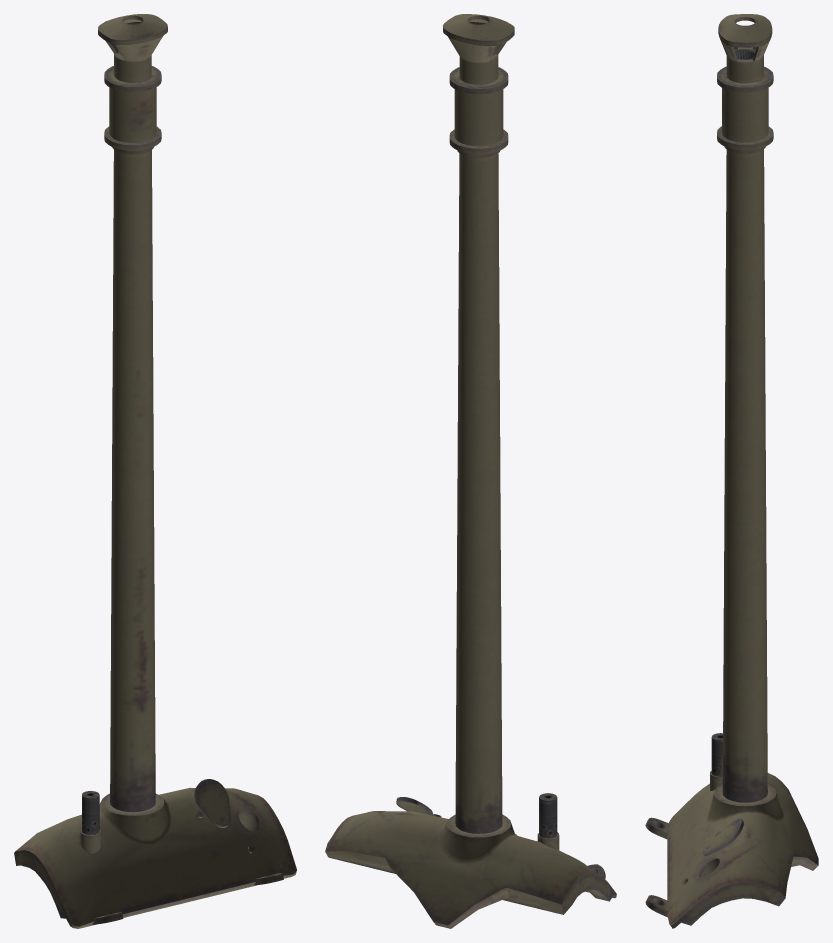
Rendered from Gun_04.glb.
3 views of the same model, side by side, from view 1: azimuth 30°, elevation 25°; view 2: azimuth 150°, elevation 25°; view 3: azimuth 270°, elevation 25° (orthographic). The views are drawn at different scales.
Parts seen in each view (by area): view 1: set_0_group_0; view 2: set_0_group_0; view 3: set_0_group_0.
Part boxes in pixels (bbox=[...]): set_0_group_0: bbox=[14, 14, 296, 928]; set_0_group_0: bbox=[325, 14, 616, 928]; set_0_group_0: bbox=[645, 14, 818, 928].
Bounding box in the file's own units: 0.9654 × 3.4 × 0.6305.
Materials: 1 (1 with a texture image).
